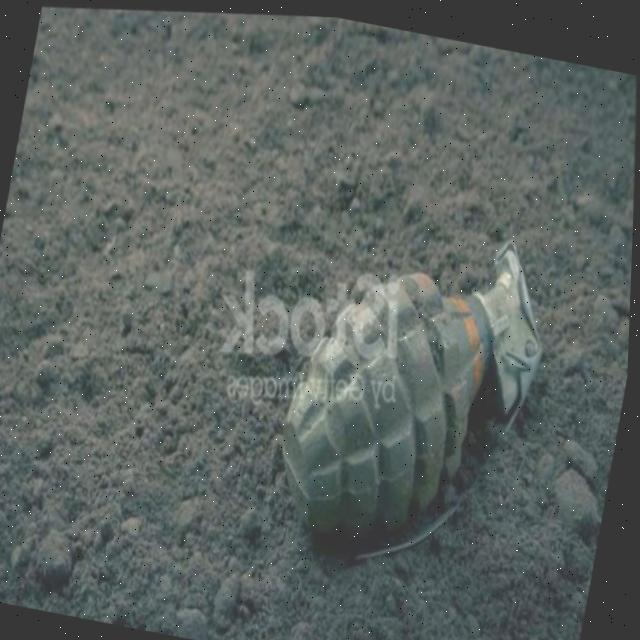grenade: (224, 181, 607, 627)
